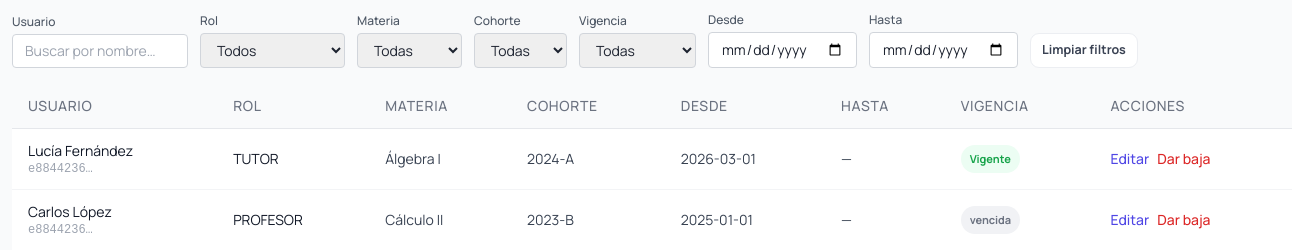
Test: AsignacionesTable — client-side filtering › 9. Usuario filter — no match shows empty state
Type "xyz999" into the field with test id "filtro-usuario" at {"x": 100, "y": 51}, box [12,34,188,68]
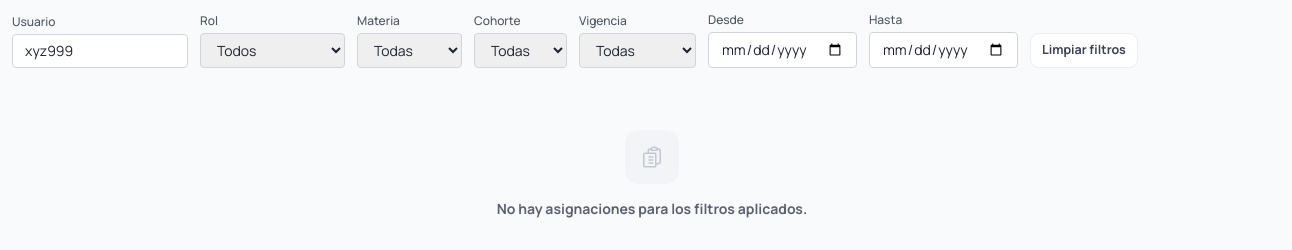
Expected: the element with test id "asignaciones-empty" is shown, [497,130,807,218]
